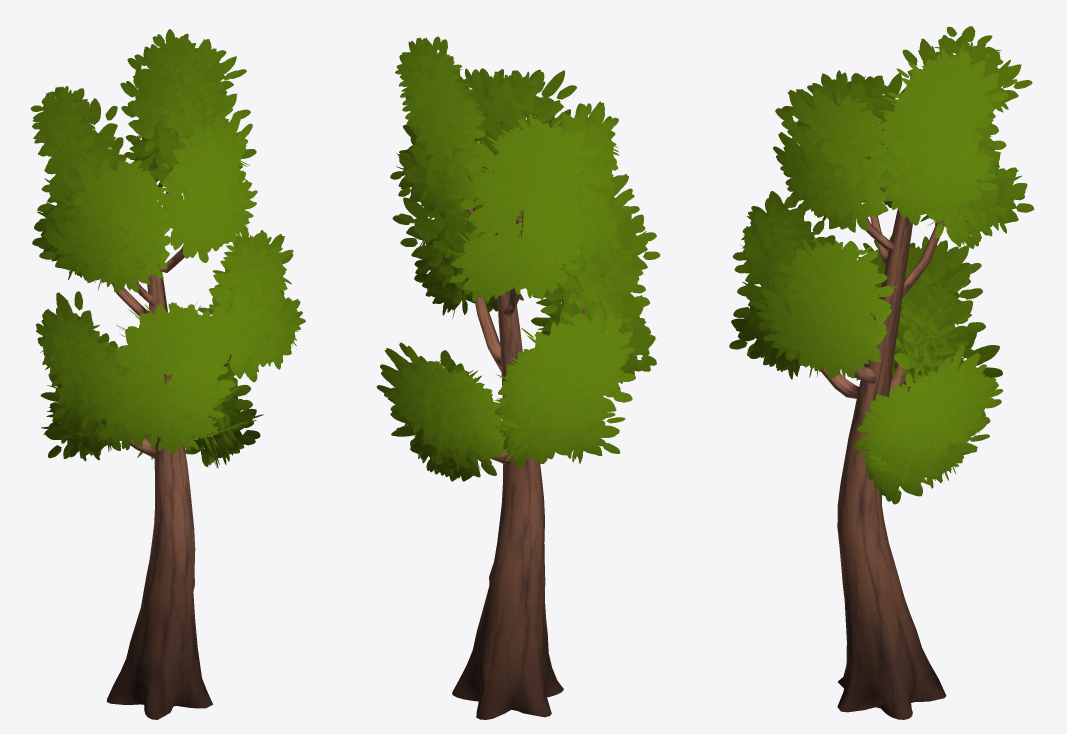
The model's file is CommonTree_3_LOD.glb.
The picture shows the model from 3 angles, left to right: view 1: azimuth 30°, elevation 25°; view 2: azimuth 150°, elevation 25°; view 3: azimuth 270°, elevation 25°; orthographic projection. The views are drawn at different scales.
Visible parts, largest first — view 1: CommonTree_3; view 2: CommonTree_3; view 3: CommonTree_3.
Boxes of the visible parts, x1,y1,x2,y2 form: CommonTree_3: (30,29,305,719); CommonTree_3: (376,36,660,719); CommonTree_3: (729,26,1033,719).
Bounding box in the file's own units: 4.06 × 9.43 × 4.24.
2 materials, 2 textured.
